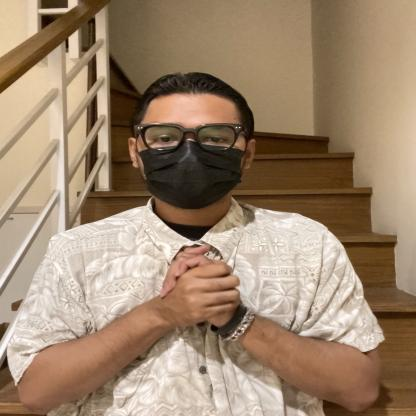Grieve: (66, 222, 341, 358)
